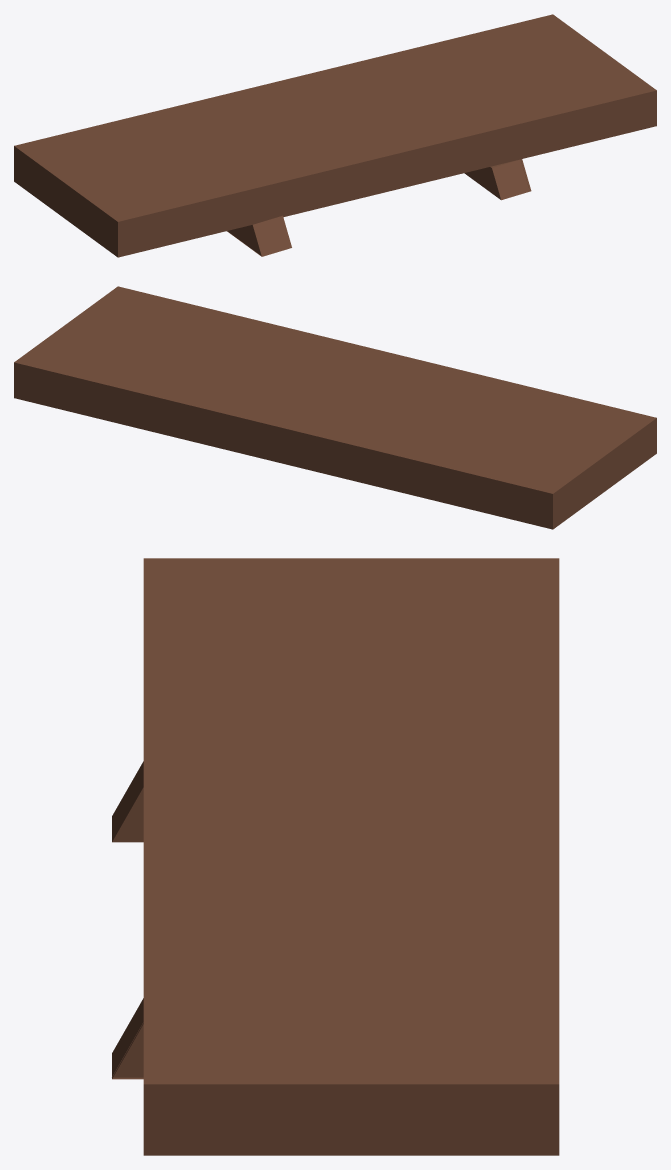
The model's file is shelf .fbx.
3 views of the same model, one above another, from view 1: azimuth 30°, elevation 25°; view 2: azimuth 150°, elevation 25°; view 3: azimuth 270°, elevation 25° (orthographic). The views are drawn at different scales.
Parts seen in each view (by area): view 1: Cube; view 2: Cube; view 3: Cube.
Boxes of the visible parts, left/top/right/bottom form: Cube: left=14, top=14, right=656, bottom=257; Cube: left=14, top=286, right=656, bottom=529; Cube: left=112, top=558, right=559, bottom=1155.
Size of the model in its own units: 599 by 68.15 by 215.
